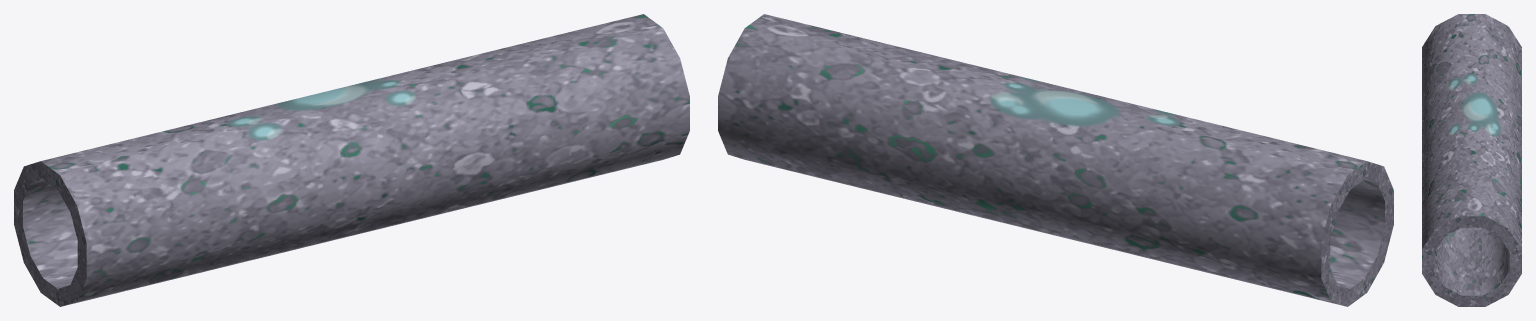
File: Cement_Pipe.fbx
3 views of the same model, side by side, from view 1: azimuth 30°, elevation 25°; view 2: azimuth 150°, elevation 25°; view 3: azimuth 270°, elevation 25° (orthographic). The views are drawn at different scales.
Parts seen in each view (by area): view 1: Cement_Pipe; view 2: Cement_Pipe; view 3: Cement_Pipe.
Part boxes in pixels (x1,y1,x2,y2): Cement_Pipe: (14,14,689,306); Cement_Pipe: (718,14,1393,306); Cement_Pipe: (1422,14,1521,306).
Bounding box in the file's own units: 254 × 52.92 × 52.92.
